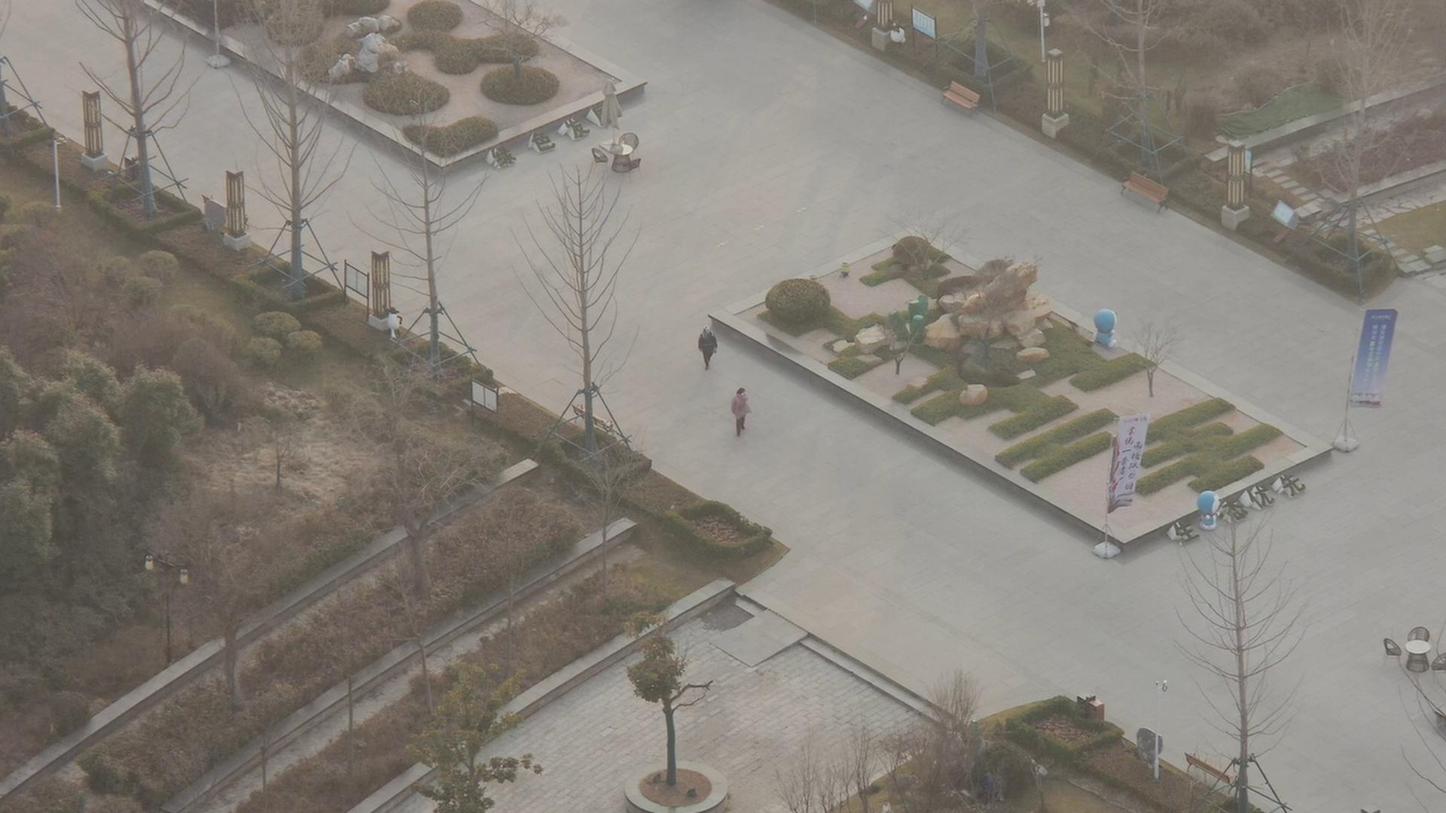human: (726, 376, 755, 442), (691, 308, 721, 371)
